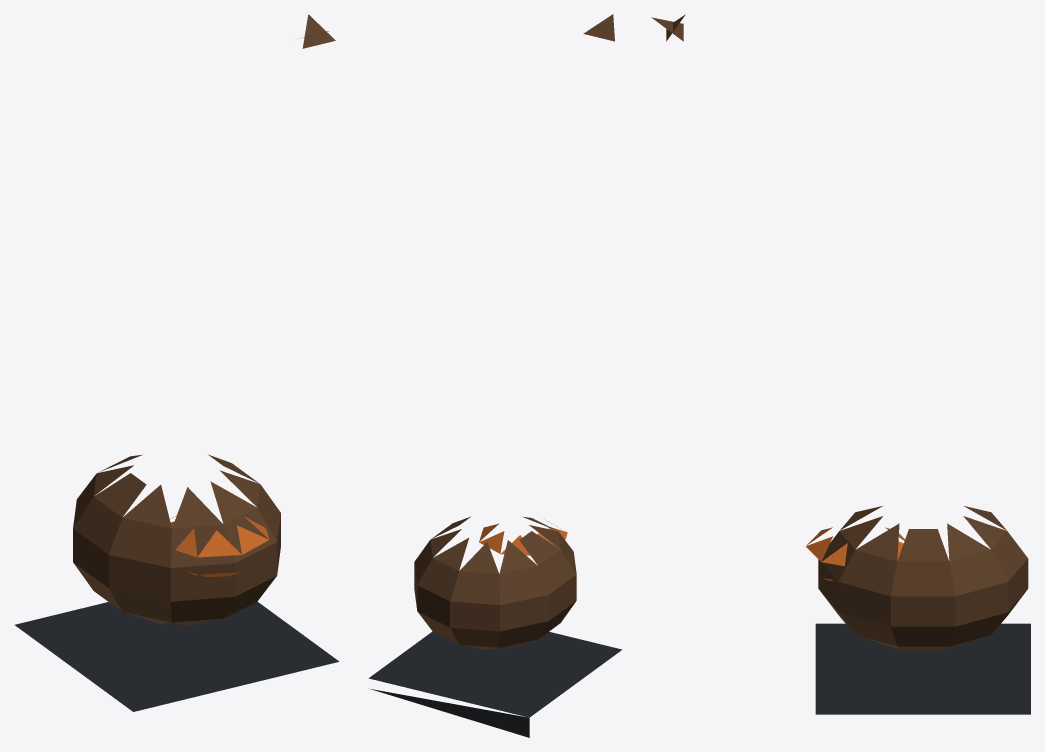
File: xantha.lod.glb
3 views of the same model, side by side, from view 1: azimuth 30°, elevation 25°; view 2: azimuth 150°, elevation 25°; view 3: azimuth 270°, elevation 25° (orthographic). The views are drawn at different scales.
Parts seen in each view (by area): view 1: m; view 2: m; view 3: m.
Part boxes in pixels (left/top/right/bottom): m: left=15, top=14, right=339, bottom=711; m: left=368, top=14, right=621, bottom=737; m: left=651, top=14, right=1030, bottom=714.
Size of the model in its own units: 0.0923 by 0.3211 by 0.1629.
